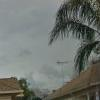Palm tree: (50, 0, 100, 71)
